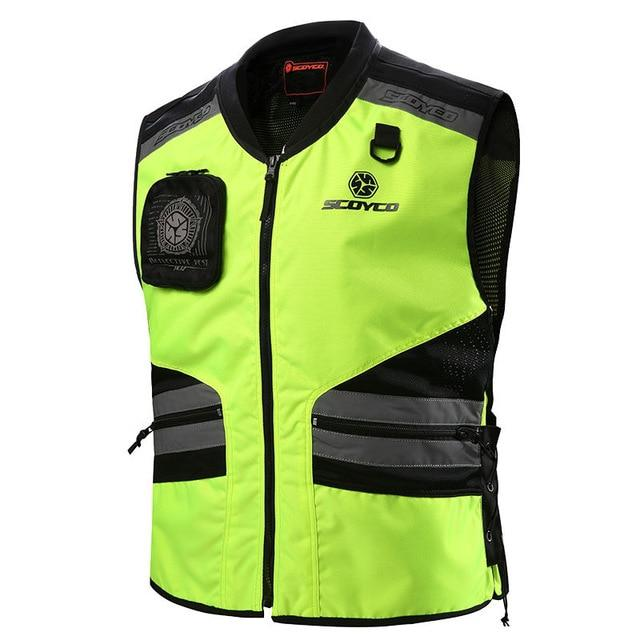Reflective-Jacket: (126, 24, 552, 640)
